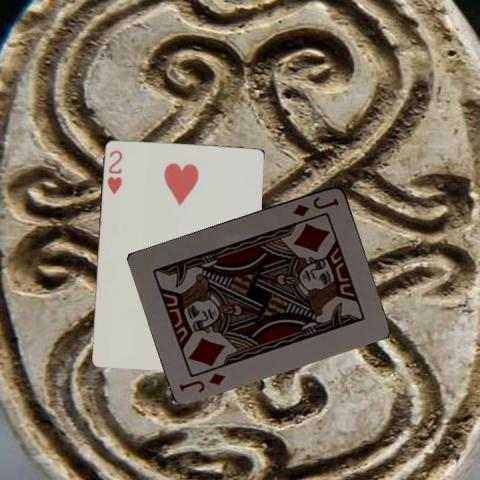2h: (104, 146, 123, 194)
Jd: (290, 193, 341, 218), (177, 370, 227, 394)
